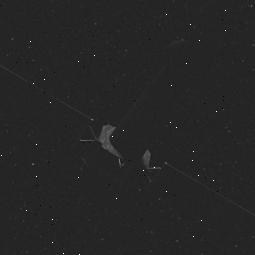xmm_newton: (15, 63, 251, 208)
